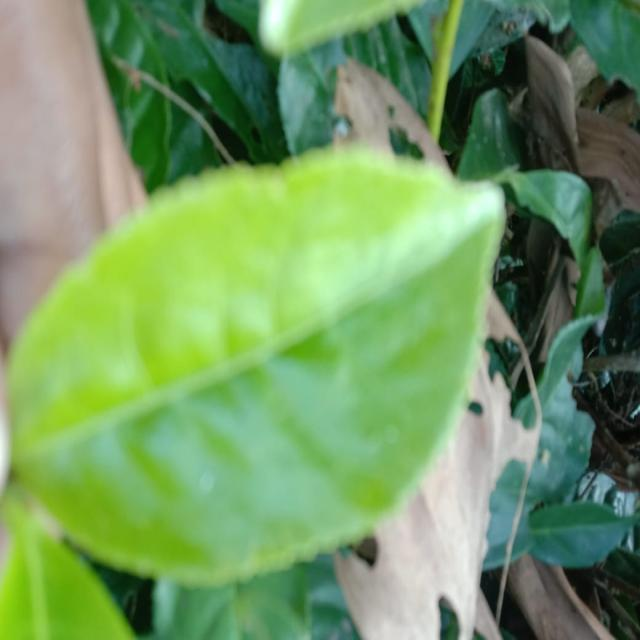Category B(2-4 days): (3, 142, 510, 588)
